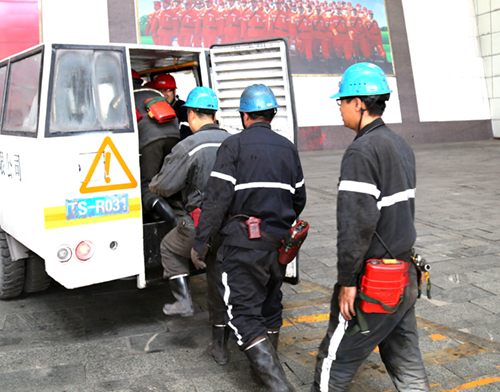helmet: (329, 59, 397, 135), (235, 79, 286, 132), (181, 82, 228, 133)
